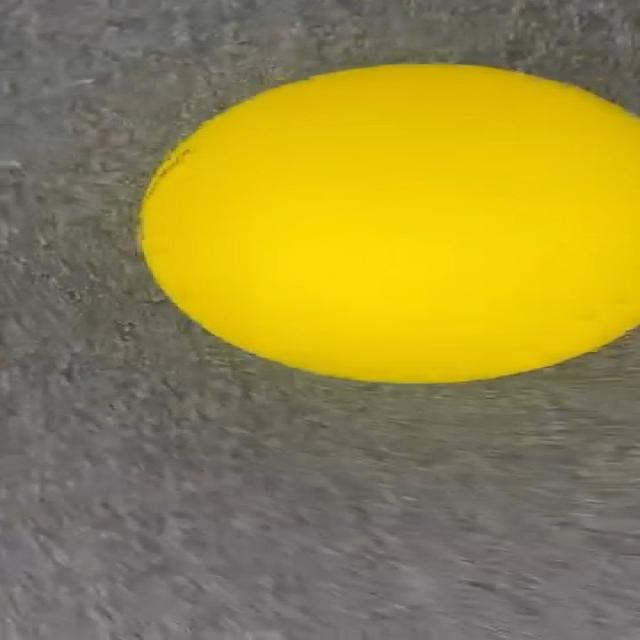Fuels: (140, 63, 638, 383)
